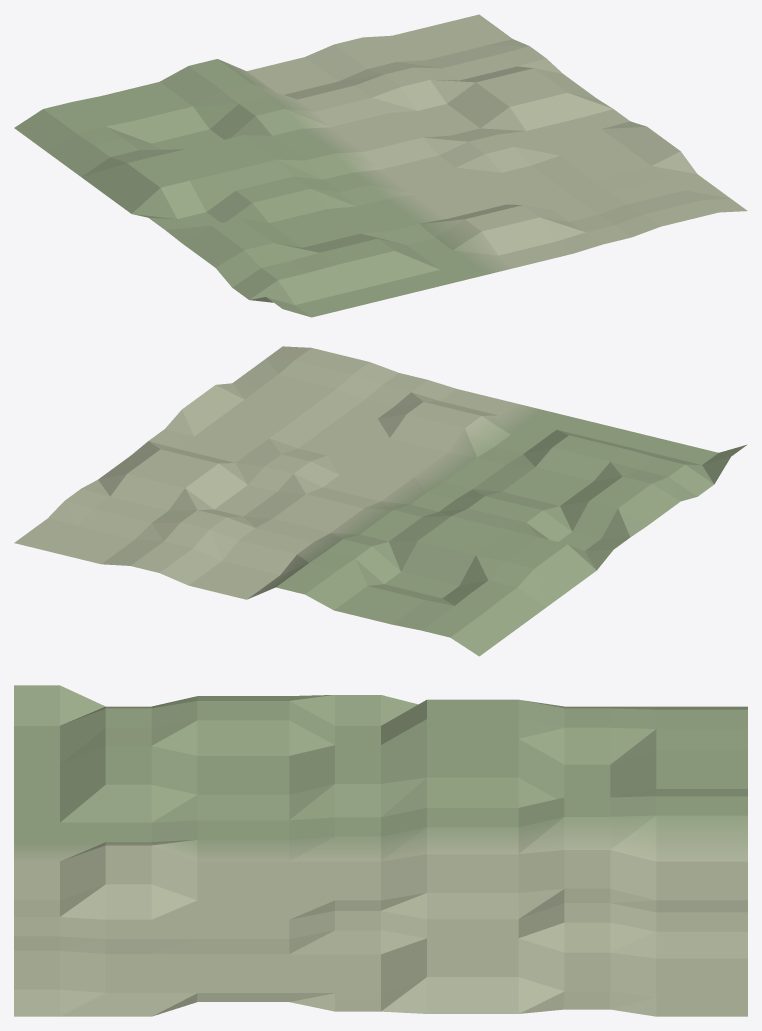
3 renders of one model, top to bottom at view 1: azimuth 30°, elevation 25°; view 2: azimuth 150°, elevation 25°; view 3: azimuth 270°, elevation 25°, orthographic. The views are drawn at different scales.
Size of the model in its own units: 32 by 1.28 by 32.
